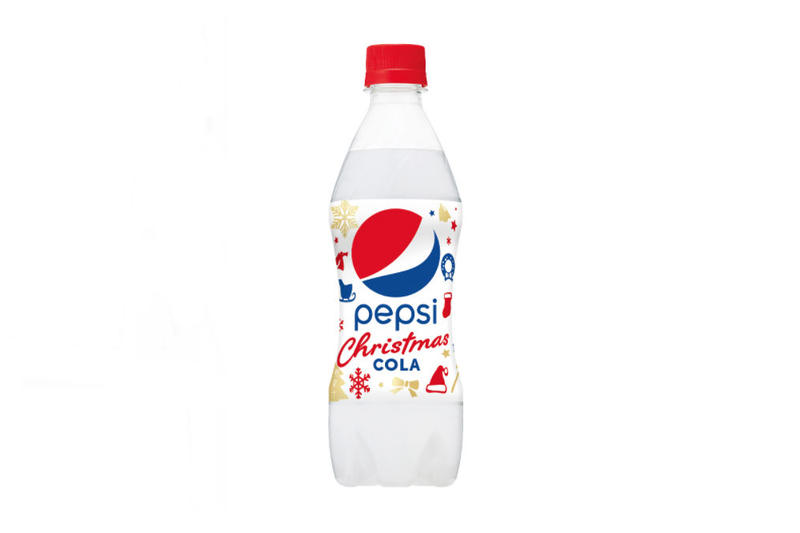pepsi: (351, 203, 440, 299), (351, 207, 440, 299), (351, 207, 440, 297)
